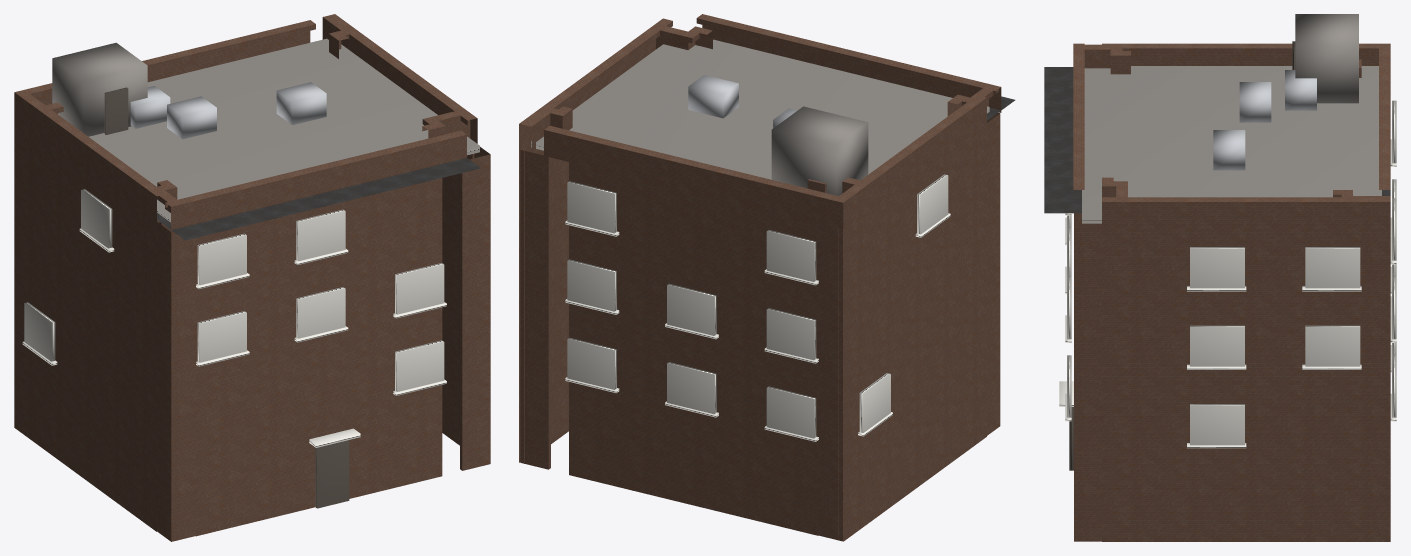
The model's file is b_brick3.gltf.
3 renders of one model, left to right at view 1: azimuth 30°, elevation 25°; view 2: azimuth 150°, elevation 25°; view 3: azimuth 270°, elevation 25°, orthographic.
Parts seen in each view (by area): view 1: b_brick3; view 2: b_brick3; view 3: b_brick3.
Boxes of the visible parts, x1,y1,x2,y2 form: b_brick3: [14, 14, 490, 541]; b_brick3: [519, 14, 1015, 541]; b_brick3: [1044, 14, 1396, 541].
Size of the model in its own units: 13.48 by 14.55 by 12.21.
Materials: 10 (4 with a texture image).
